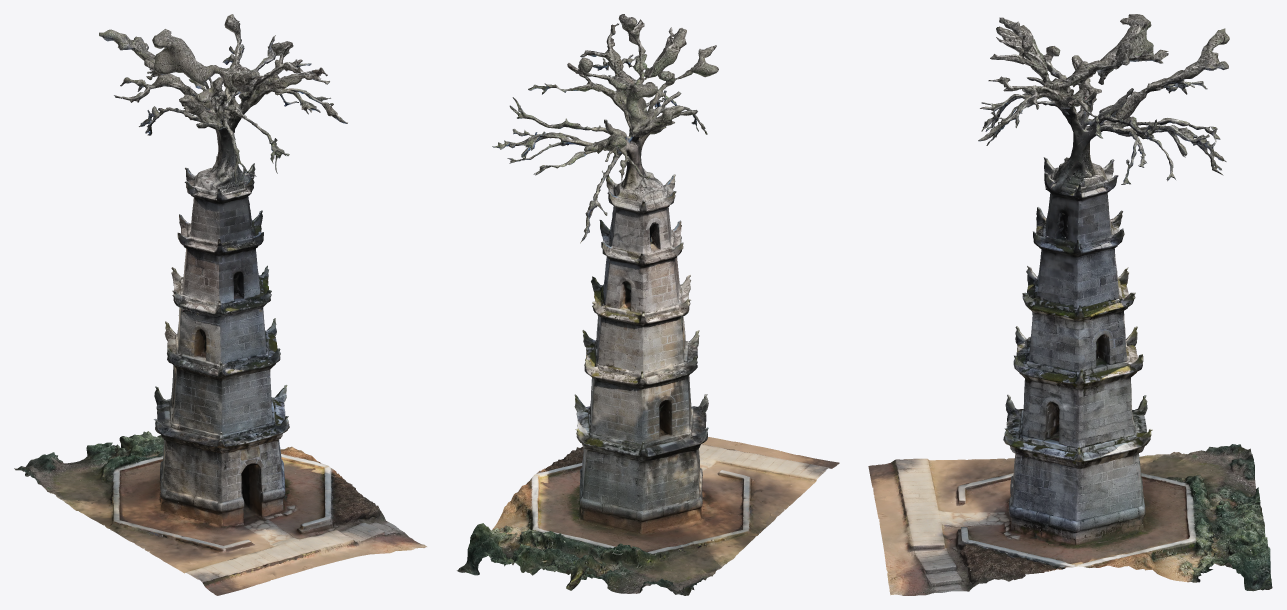
File: xizi-pagoda.glb
The picture shows the model from 3 angles, left to right: view 1: azimuth 30°, elevation 25°; view 2: azimuth 150°, elevation 25°; view 3: azimuth 270°, elevation 25°; orthographic projection. The views are drawn at different scales.
Parts seen in each view (by area): view 1: xizi-pagoda; view 2: xizi-pagoda; view 3: xizi-pagoda.
Boxes of the visible parts, x1,y1,x2,y2 form: xizi-pagoda: (14,14,426,595); xizi-pagoda: (457,14,839,595); xizi-pagoda: (868,14,1272,595).
Size of the model in its own units: 7.39 by 14.08 by 9.77.
1 material, 1 textured.
